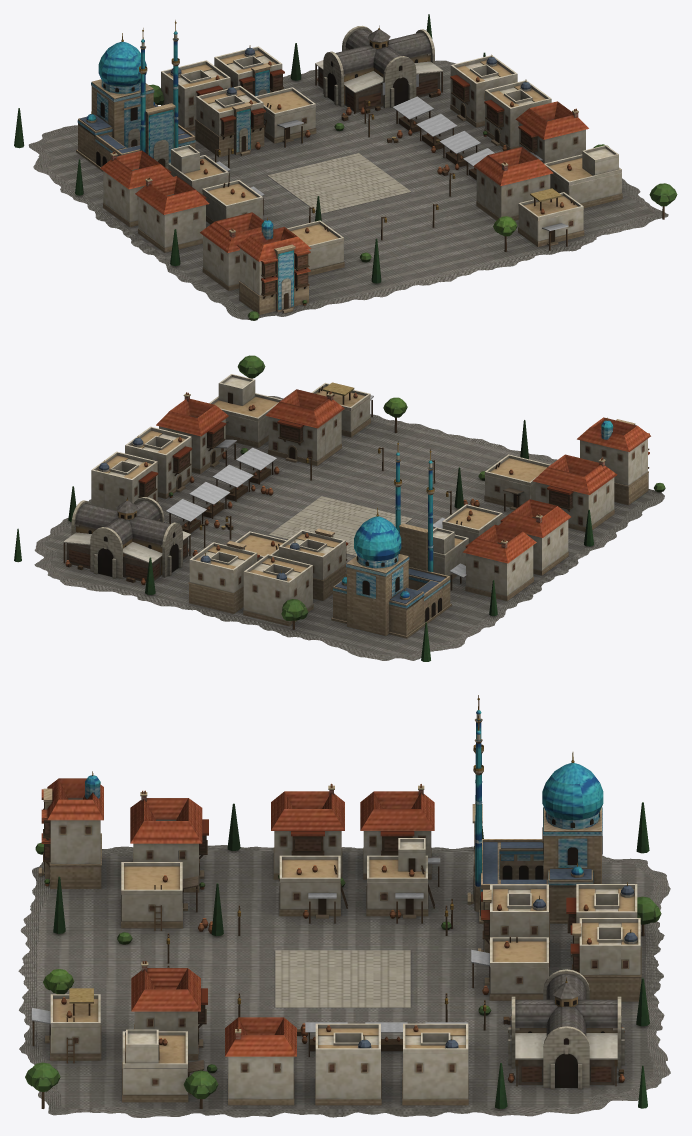
Rendered from gunpowder-town-medium-a-levant.glb.
3 views of the same model, one above another, from view 1: azimuth 30°, elevation 25°; view 2: azimuth 150°, elevation 25°; view 3: azimuth 270°, elevation 25° (orthographic). The views are drawn at different scales.
Visible parts, largest first — view 1: LOD0; view 2: LOD0; view 3: LOD0.
Part boxes in pixels (left/top/right/bottom): LOD0: left=14, top=14, right=677, bottom=320; LOD0: left=14, top=355, right=665, bottom=661; LOD0: left=18, top=695, right=670, bottom=1118.
Size of what is drawn, in the model's own units: 6.03 by 2 by 6.09.
3 materials, 3 textured.
